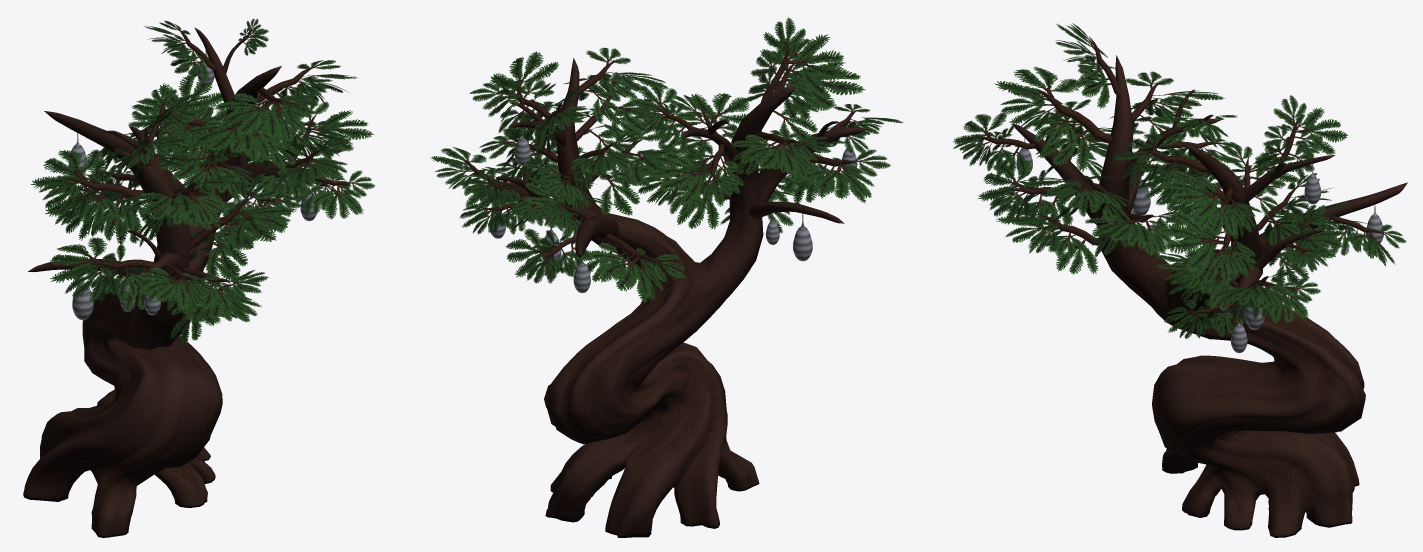
Rendered from MagicTree.glb.
3 views of the same model, side by side, from view 1: azimuth 30°, elevation 25°; view 2: azimuth 150°, elevation 25°; view 3: azimuth 270°, elevation 25° (orthographic). The views are drawn at different scales.
Parts seen in each view (by area): view 1: Tree.032, Tree, Tree.001, Sphere.004; view 2: Tree.032, Tree, Tree.001, Sphere.004; view 3: Tree.032, Tree, Tree.001.
Boxes of the visible parts, left/top/right/bottom form: Tree.032: left=30, top=18, right=375, bottom=347; Tree: left=23, top=66, right=281, bottom=537; Tree.001: left=28, top=27, right=328, bottom=281; Sphere.004: left=72, top=275, right=93, bottom=320; Tree.032: left=430, top=17, right=903, bottom=303; Tree: left=544, top=58, right=796, bottom=537; Tree.001: left=490, top=102, right=867, bottom=256; Sphere.004: left=792, top=213, right=812, bottom=261; Tree.032: left=953, top=23, right=1406, bottom=339; Tree: left=1098, top=55, right=1365, bottom=537; Tree.001: left=1012, top=89, right=1407, bottom=328.
Size of what is drawn, in the model's own units: 8.62 by 9.07 by 8.53.
4 materials, 4 textured.
